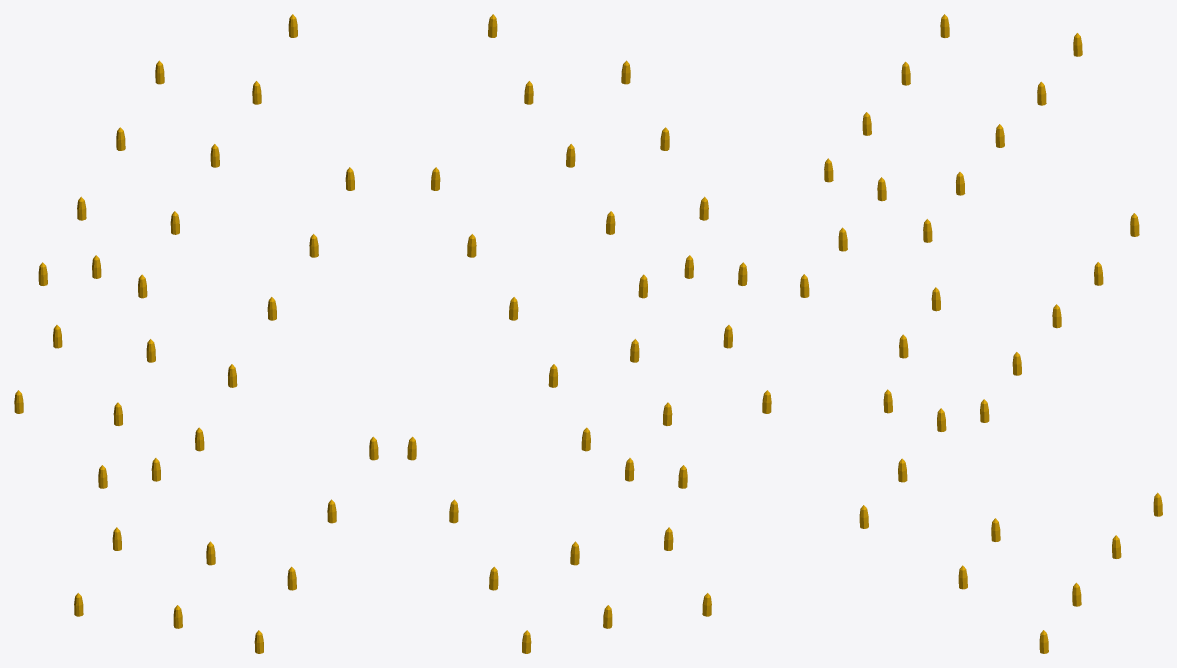
File: Bullet.rain.fbx
3 views of the same model, side by side, from view 1: azimuth 30°, elevation 25°; view 2: azimuth 150°, elevation 25°; view 3: azimuth 330°, elevation 25° (orthographic).
Bounding box in the file's own units: 1179 × 1959 × 23.09.
